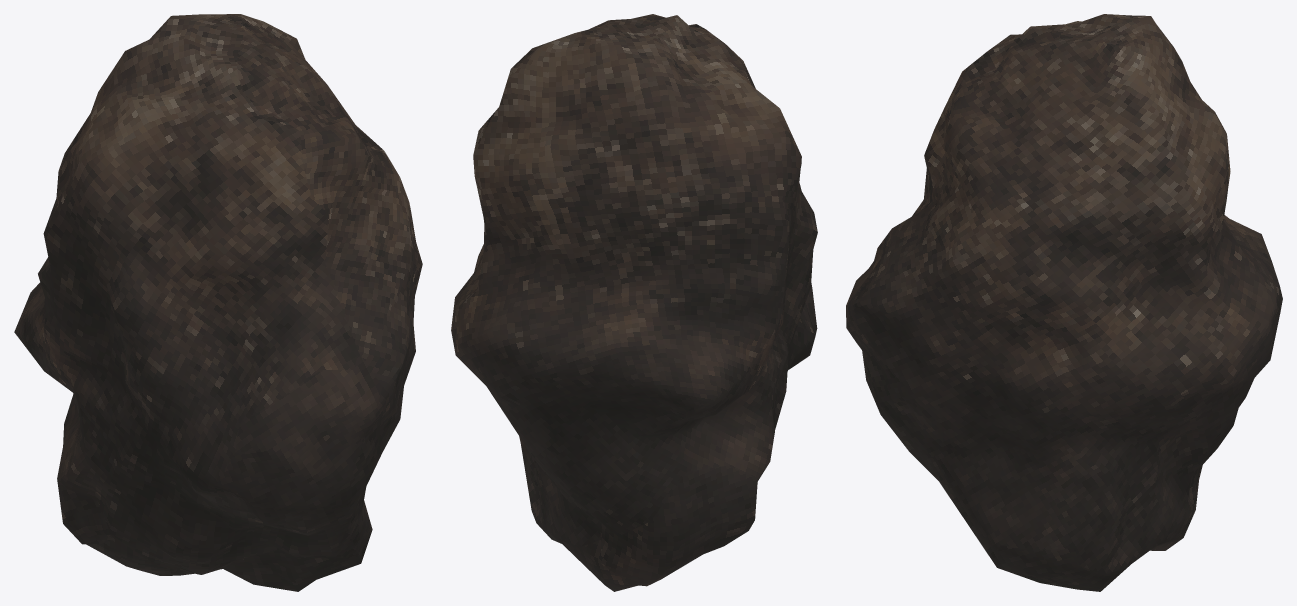
The model's file is SM_RP2_Rock_4m_5.001.glb.
3 views of the same model, side by side, from view 1: azimuth 30°, elevation 25°; view 2: azimuth 150°, elevation 25°; view 3: azimuth 270°, elevation 25° (orthographic). The views are drawn at different scales.
Parts seen in each view (by area): view 1: SM_RP2_Rock_4m_5.001; view 2: SM_RP2_Rock_4m_5.001; view 3: SM_RP2_Rock_4m_5.001.
Boxes of the visible parts, x1=… form: SM_RP2_Rock_4m_5.001: x1=14, y1=14, x2=422, y2=591; SM_RP2_Rock_4m_5.001: x1=451, y1=14, x2=817, y2=591; SM_RP2_Rock_4m_5.001: x1=846, y1=14, x2=1282, y2=591.
Bounding box in the file's own units: 3.9 × 6.3 × 4.65.
1 material, 1 textured.
